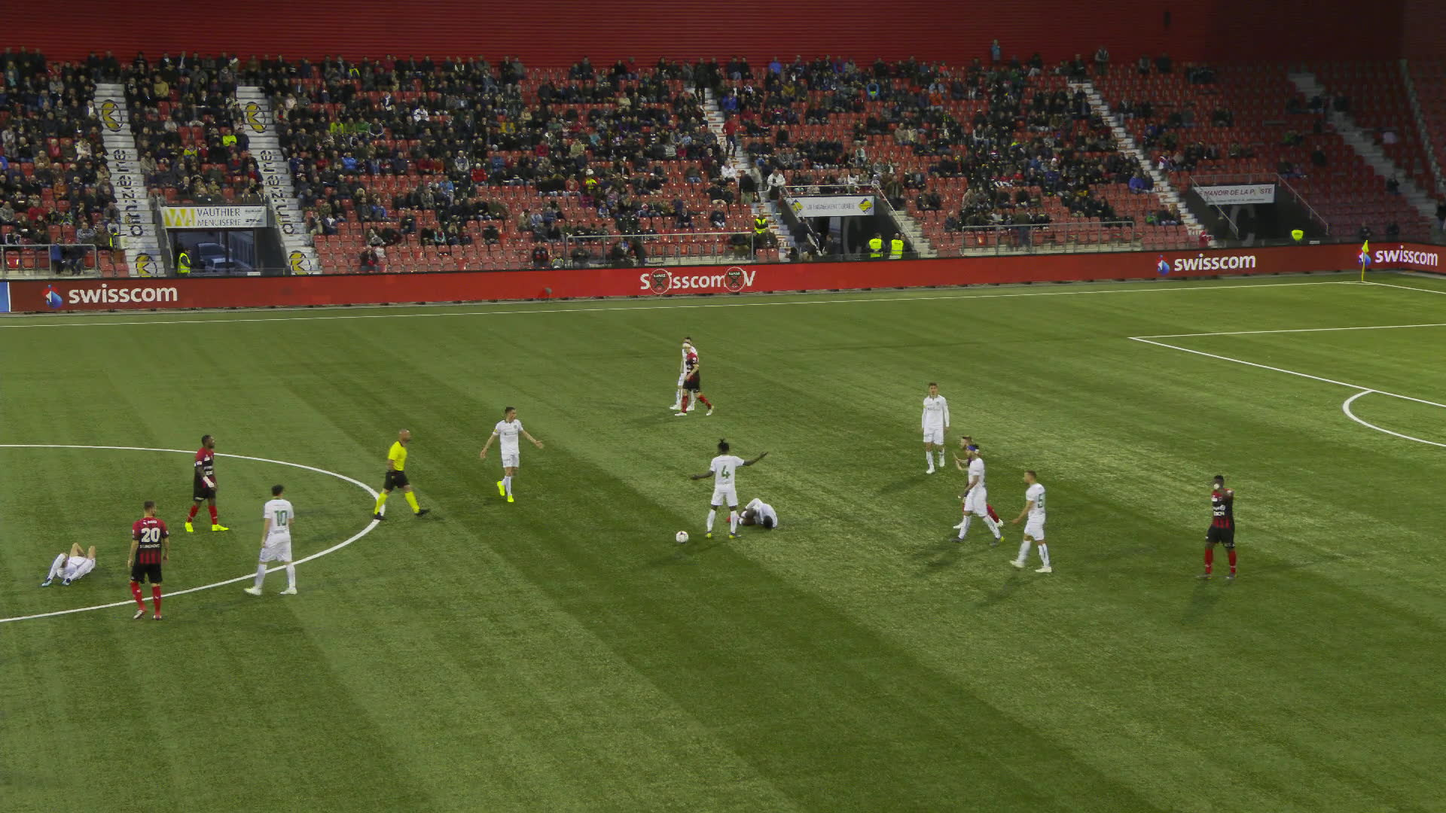ball: (676, 531, 688, 540)
player: (687, 437, 767, 540), (481, 406, 539, 502), (124, 500, 169, 623), (948, 443, 999, 545), (255, 483, 301, 595), (950, 435, 999, 530), (186, 432, 230, 531), (1200, 473, 1240, 581), (1016, 470, 1055, 571), (921, 382, 950, 474), (675, 340, 710, 416), (43, 542, 97, 585), (725, 497, 778, 530), (676, 336, 699, 411)
referee: (375, 427, 413, 519)
